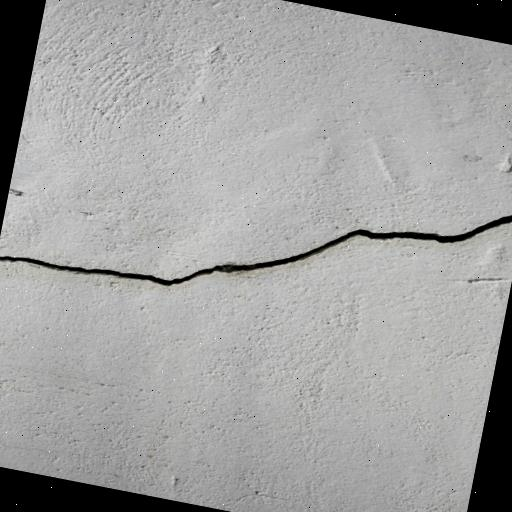spalling: (0, 209, 512, 297)
